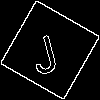J: (25, 25, 61, 76)
